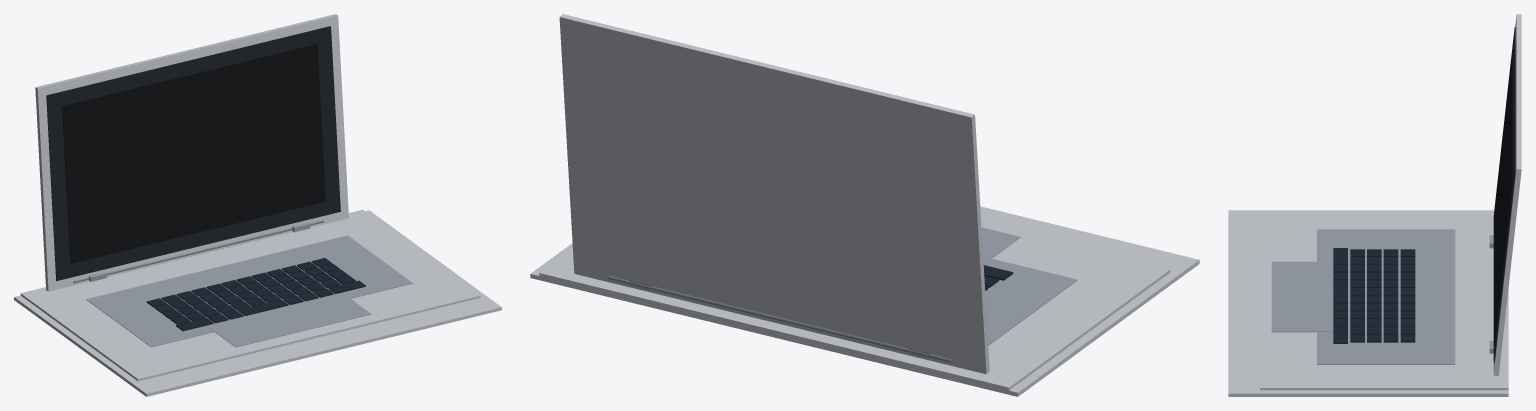
File: computer-placeholder.gltf
3 renders of one model, left to right at view 1: azimuth 30°, elevation 25°; view 2: azimuth 150°, elevation 25°; view 3: azimuth 270°, elevation 25°, orthographic. The views are drawn at different scales.
Parts seen in each view (by area): view 1: macbook_style, screen; view 2: macbook_style; view 3: macbook_style, screen.
Part boxes in pixels (bbox=[...]): macbook_style: bbox=[14, 14, 501, 396]; screen: bbox=[62, 44, 325, 263]; macbook_style: bbox=[530, 14, 1199, 396]; macbook_style: bbox=[1228, 14, 1521, 396]; screen: bbox=[1494, 48, 1512, 340].
Bounding box in the file's own units: 2.2 × 1.19 × 1.49.
